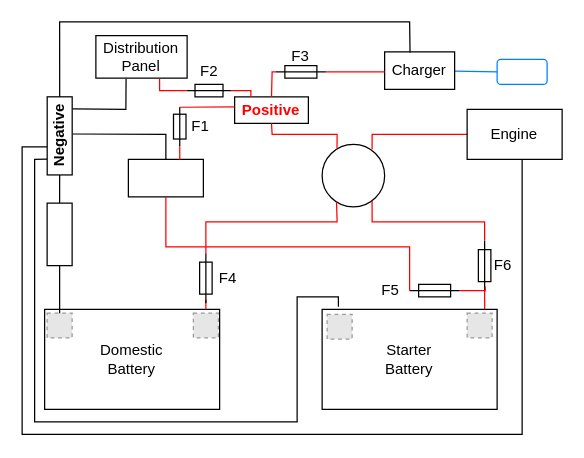
This 584x458 diagram has some shape labels left out. Grey dashed boxes stand in for pictures. The shapes that lost their labels are listed below. From the top down, each one's centre as x and y in pixels, then its label:
(x=521, y=71): Mains
(x=165, y=177): B2B
(x=353, y=175): Switch (Dual)
(x=59, y=234): Shunt
